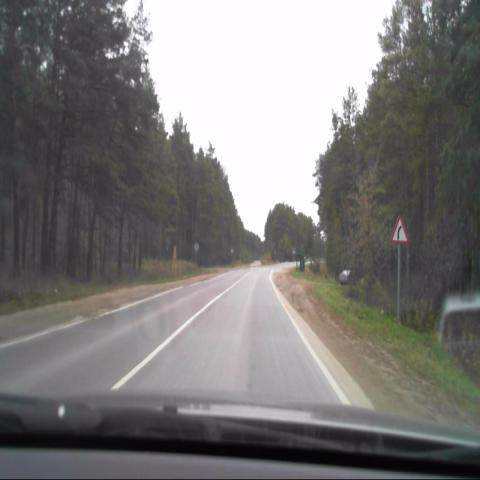1_11: (390, 215, 408, 243)
